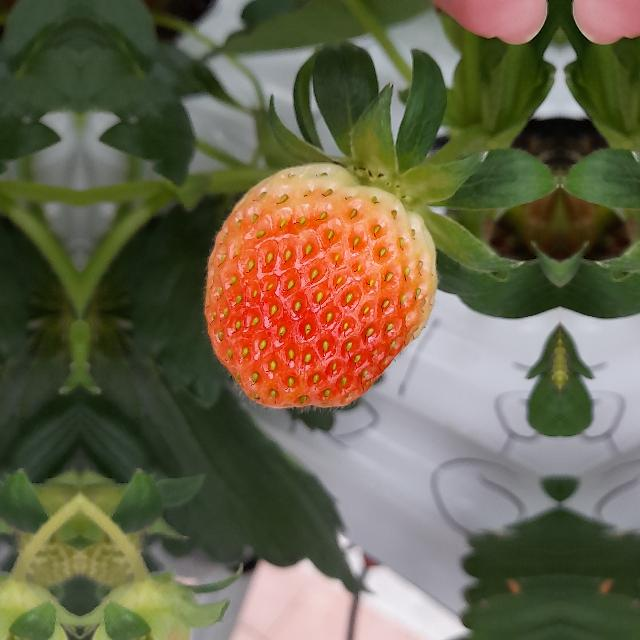Health_100: (203, 162, 437, 408)
